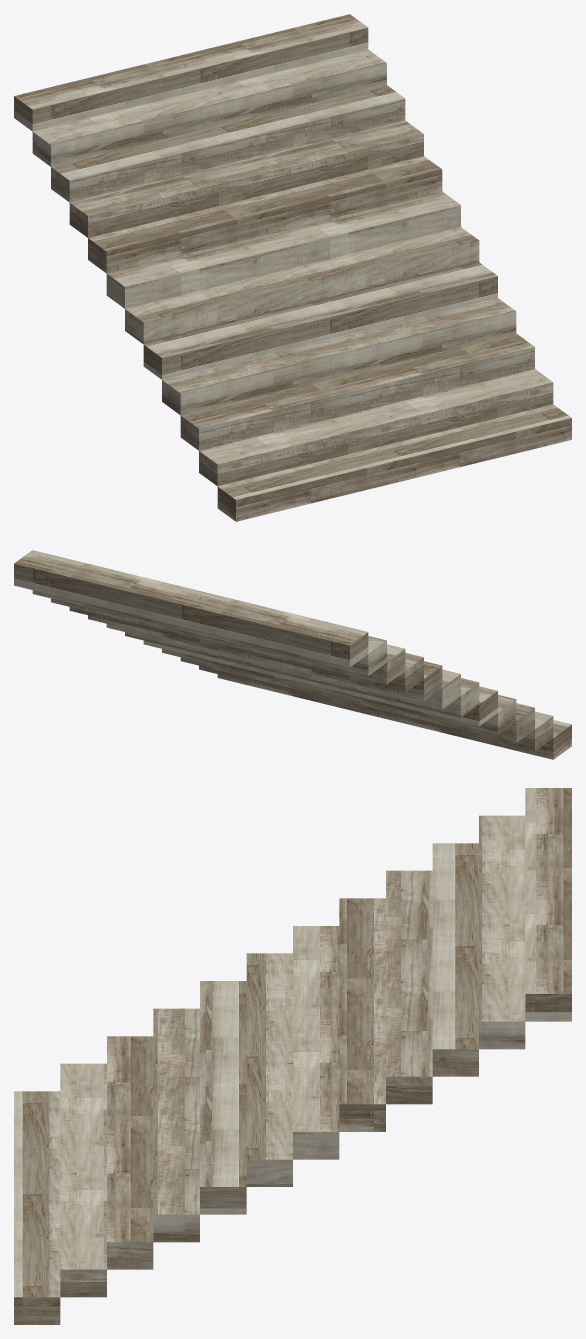
File: Soupstairs003.glb
The picture shows the model from 3 angles, top to bottom: view 1: azimuth 30°, elevation 25°; view 2: azimuth 150°, elevation 25°; view 3: azimuth 270°, elevation 25°; orthographic projection. The views are drawn at different scales.
Parts seen in each view (by area): view 1: Soupstairs003_high_1; view 2: Soupstairs003_high_1; view 3: Soupstairs003_high_1.
Part boxes in pixels (x1,y1,x2,y2): Soupstairs003_high_1: (14, 14, 571, 521); Soupstairs003_high_1: (14, 550, 571, 759); Soupstairs003_high_1: (14, 788, 571, 1324).
Size of the model in its own units: 2.25 by 1.69 by 2.58.
1 material, 1 textured.
